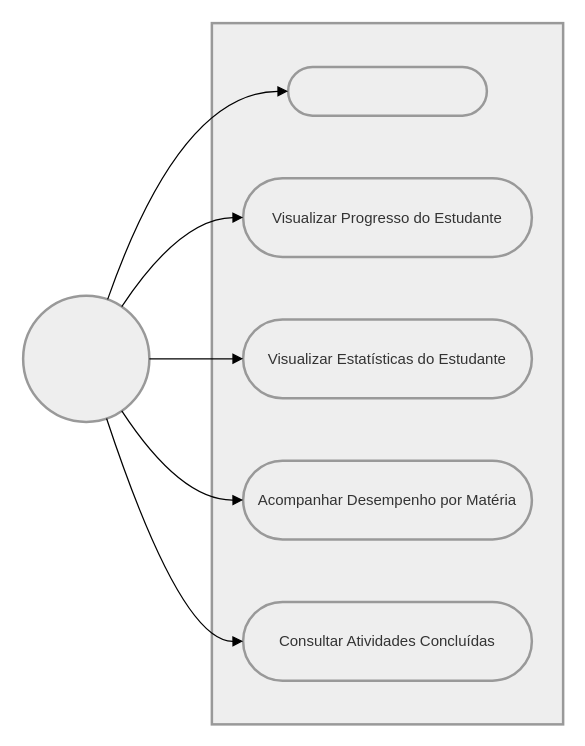
The diagram is 585 pixels wide and 746 high, and some of its shapes have lost their labels. Each missing label, with the centre of its shape:
Responsavel: [85,358]
Vincular Estudante: [387,90]
